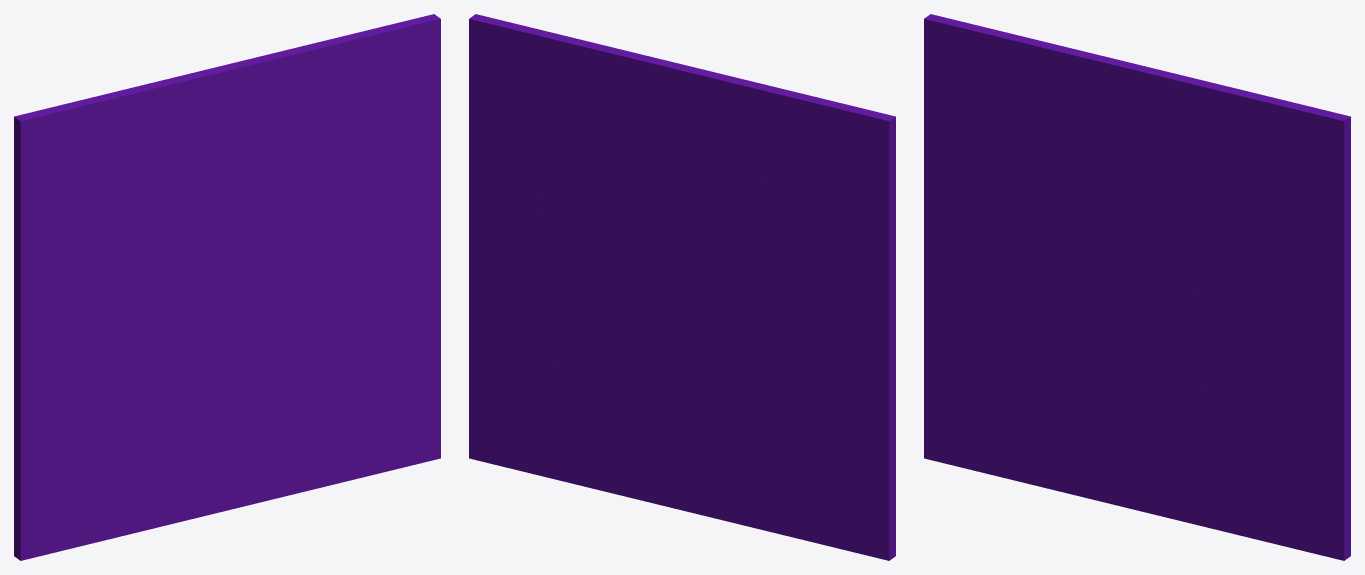
Rendered from MemorialFrame_3.005_chunks.fbx.
The picture shows the model from 3 angles, left to right: view 1: azimuth 30°, elevation 25°; view 2: azimuth 150°, elevation 25°; view 3: azimuth 330°, elevation 25°; orthographic projection.
Visible parts, largest first — view 1: MemorialFrame_3.005_0, MemorialFrame_3.005_9, MemorialFrame_3.005_12, MemorialFrame_3.005_6, MemorialFrame_3.005_4, MemorialFrame_3.005_2, MemorialFrame_3.005_7, MemorialFrame_3.005_10, MemorialFrame_3.005_8, MemorialFrame_3.005_5, MemorialFrame_3.005_3, MemorialFrame_3.005_11 (+1 smaller); view 2: MemorialFrame_3.005_0, MemorialFrame_3.005_12, MemorialFrame_3.005_9, MemorialFrame_3.005_4, MemorialFrame_3.005_2, MemorialFrame_3.005_7, MemorialFrame_3.005_8, MemorialFrame_3.005_6, MemorialFrame_3.005_3, MemorialFrame_3.005_5, MemorialFrame_3.005_10, MemorialFrame_3.005_11; view 3: MemorialFrame_3.005_0, MemorialFrame_3.005_12, MemorialFrame_3.005_9, MemorialFrame_3.005_6, MemorialFrame_3.005_7, MemorialFrame_3.005_4, MemorialFrame_3.005_2, MemorialFrame_3.005_10, MemorialFrame_3.005_8, MemorialFrame_3.005_5, MemorialFrame_3.005_3, MemorialFrame_3.005_11 (+1 smaller).
Boxes of the visible parts, x1=… form: MemorialFrame_3.005_0: x1=14, y1=284, x2=236, y2=560; MemorialFrame_3.005_9: x1=98, y1=56, x2=283, y2=267; MemorialFrame_3.005_12: x1=279, y1=14, x2=440, y2=195; MemorialFrame_3.005_6: x1=303, y1=339, x2=440, y2=491; MemorialFrame_3.005_4: x1=14, y1=95, x2=138, y2=271; MemorialFrame_3.005_2: x1=14, y1=249, x2=168, y2=432; MemorialFrame_3.005_7: x1=321, y1=186, x2=440, y2=372; MemorialFrame_3.005_10: x1=210, y1=175, x2=421, y2=289; MemorialFrame_3.005_8: x1=232, y1=353, x2=305, y2=509; MemorialFrame_3.005_5: x1=235, y1=226, x2=361, y2=360; MemorialFrame_3.005_3: x1=125, y1=183, x2=220, y2=317; MemorialFrame_3.005_11: x1=254, y1=49, x2=314, y2=179; MemorialFrame_3.005_0: x1=685, y1=306, x2=895, y2=560; MemorialFrame_3.005_12: x1=469, y1=14, x2=629, y2=198; MemorialFrame_3.005_9: x1=621, y1=59, x2=817, y2=261; MemorialFrame_3.005_4: x1=756, y1=97, x2=895, y2=276; MemorialFrame_3.005_2: x1=732, y1=248, x2=895, y2=436; MemorialFrame_3.005_7: x1=469, y1=179, x2=597, y2=390; MemorialFrame_3.005_8: x1=589, y1=344, x2=688, y2=511; MemorialFrame_3.005_6: x1=469, y1=357, x2=591, y2=488; MemorialFrame_3.005_3: x1=676, y1=167, x2=789, y2=335; MemorialFrame_3.005_5: x1=555, y1=223, x2=685, y2=354; MemorialFrame_3.005_10: x1=507, y1=179, x2=691, y2=284; MemorialFrame_3.005_11: x1=602, y1=45, x2=661, y2=106; MemorialFrame_3.005_0: x1=924, y1=279, x2=1139, y2=509; MemorialFrame_3.005_12: x1=1196, y1=79, x2=1350, y2=288; MemorialFrame_3.005_9: x1=1001, y1=35, x2=1186, y2=257; MemorialFrame_3.005_6: x1=1206, y1=383, x2=1350, y2=560; MemorialFrame_3.005_7: x1=1225, y1=277, x2=1350, y2=487; MemorialFrame_3.005_4: x1=924, y1=14, x2=1042, y2=185; MemorialFrame_3.005_2: x1=924, y1=169, x2=1071, y2=311; MemorialFrame_3.005_10: x1=1113, y1=206, x2=1324, y2=292; MemorialFrame_3.005_8: x1=1136, y1=363, x2=1209, y2=527; MemorialFrame_3.005_5: x1=1138, y1=290, x2=1264, y2=389; MemorialFrame_3.005_3: x1=1028, y1=144, x2=1123, y2=287; MemorialFrame_3.005_11: x1=1157, y1=74, x2=1218, y2=209.
Bounding box in the file's own units: 797 × 797 × 21.54.
